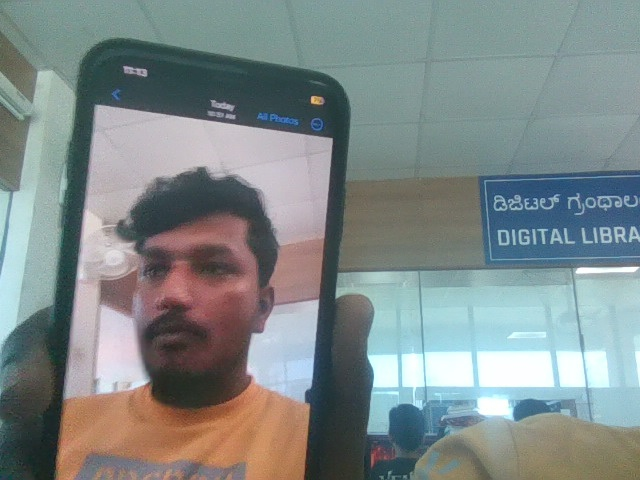fake: (116, 158, 282, 394)
